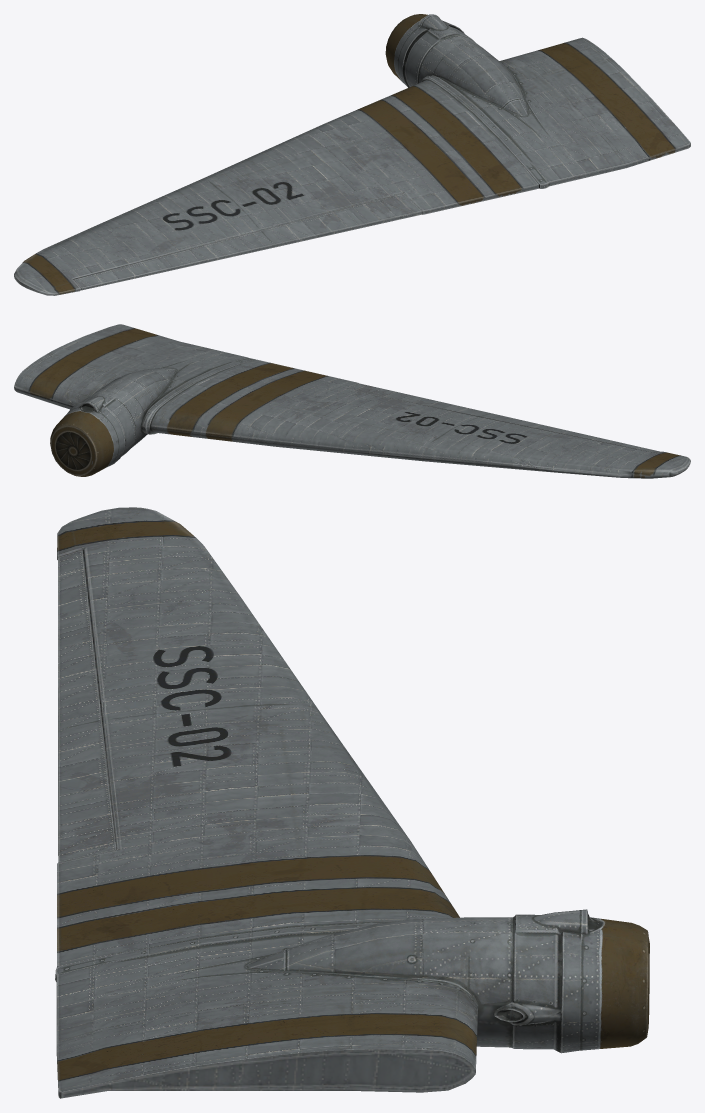
The model's file is plane_intro_wing.dae.
The picture shows the model from 3 angles, top to bottom: view 1: azimuth 30°, elevation 25°; view 2: azimuth 150°, elevation 25°; view 3: azimuth 270°, elevation 25°; orthographic projection. The views are drawn at different scales.
Visible parts, largest first — view 1: plane_intro_wing; view 2: plane_intro_wing; view 3: plane_intro_wing.
Boxes of the visible parts, x1=… form: plane_intro_wing: x1=14, y1=14, x2=690, y2=295; plane_intro_wing: x1=14, y1=324, x2=690, y2=478; plane_intro_wing: x1=55, y1=507, x2=649, y2=1098.
Size of the model in its own units: 1415 by 159 by 625.
